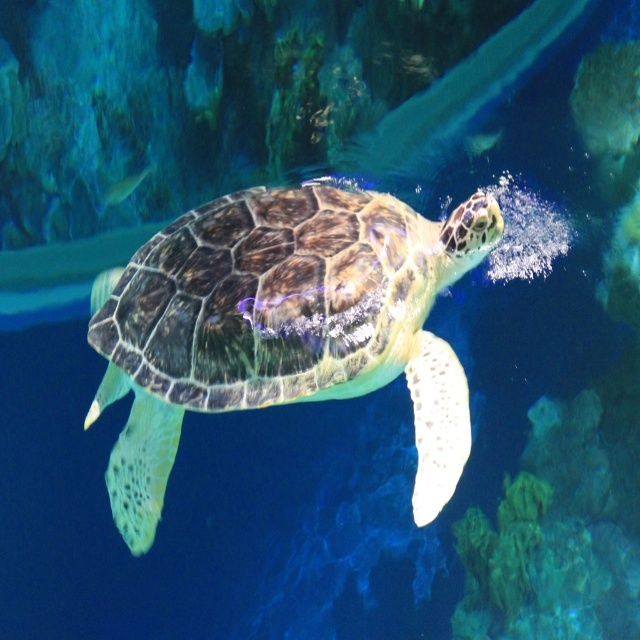Sea turtle: (85, 177, 508, 558)
